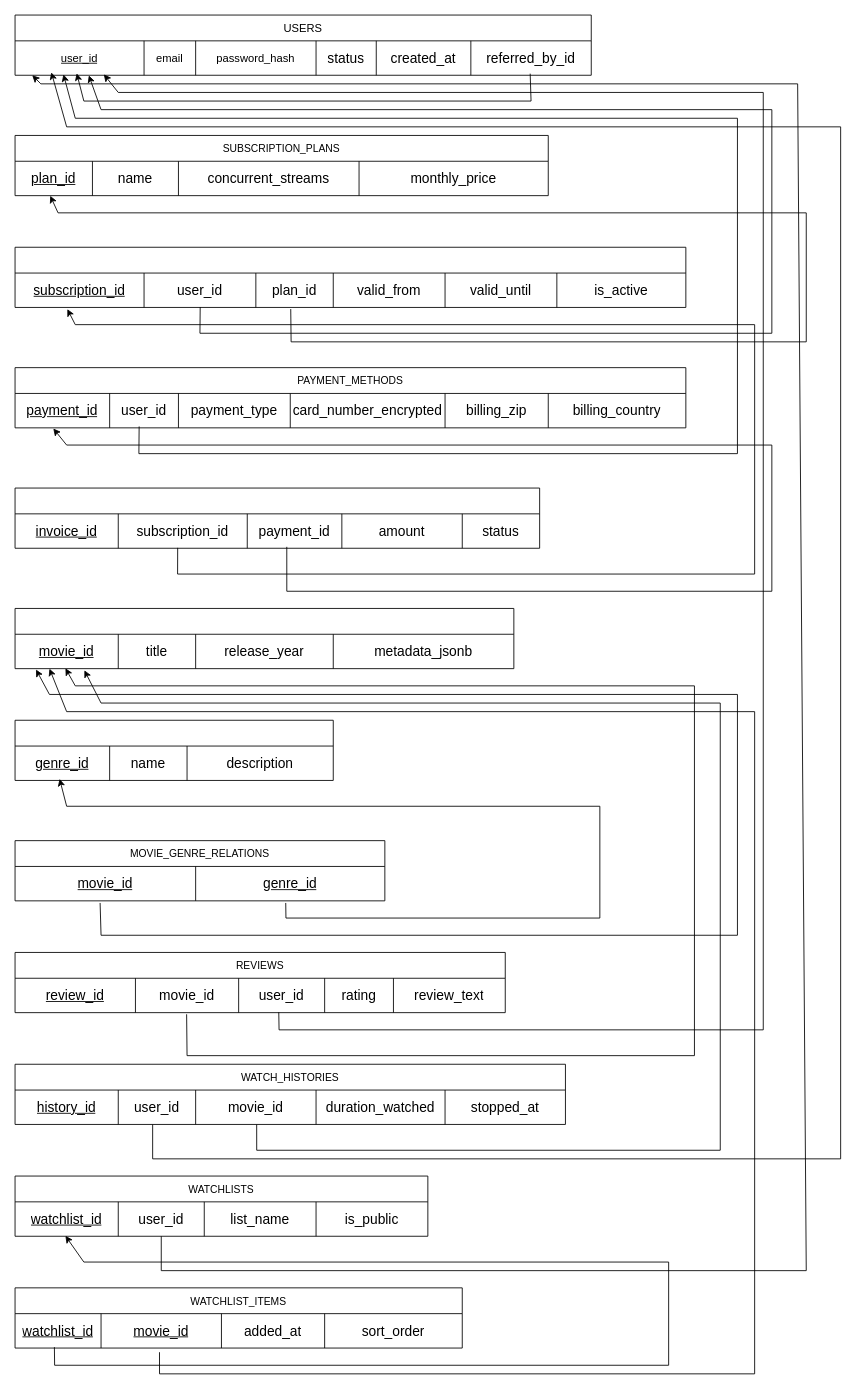
Image size: 863x1396. Some labels were removed from this diagram. The shapes that lost their labels are listed below. From the top down, each one's box as (x1, y1, x2, y2) in pixels, then its label:
(14, 246, 686, 307): SUBSCRIPTIONS
(14, 487, 540, 548): INVOICES
(14, 608, 514, 669): MOVIES
(14, 719, 333, 780): GENRES
